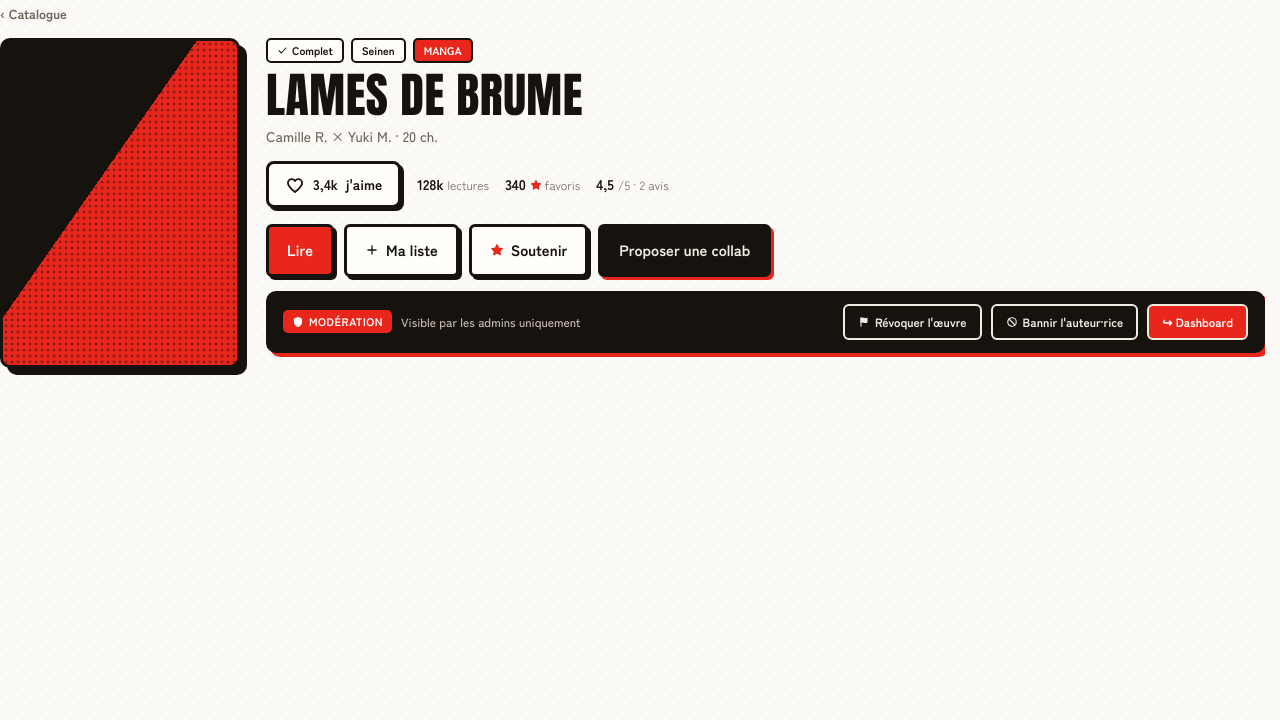
WorkHero (DR-3 FE-2) › MC-3: "Proposer une collab" opens the from-work modal scoped to the other creators
The image size is (1280, 720).
Click the button "Proposer une collab": {"x": 685, "y": 250} [598,224,771,277]
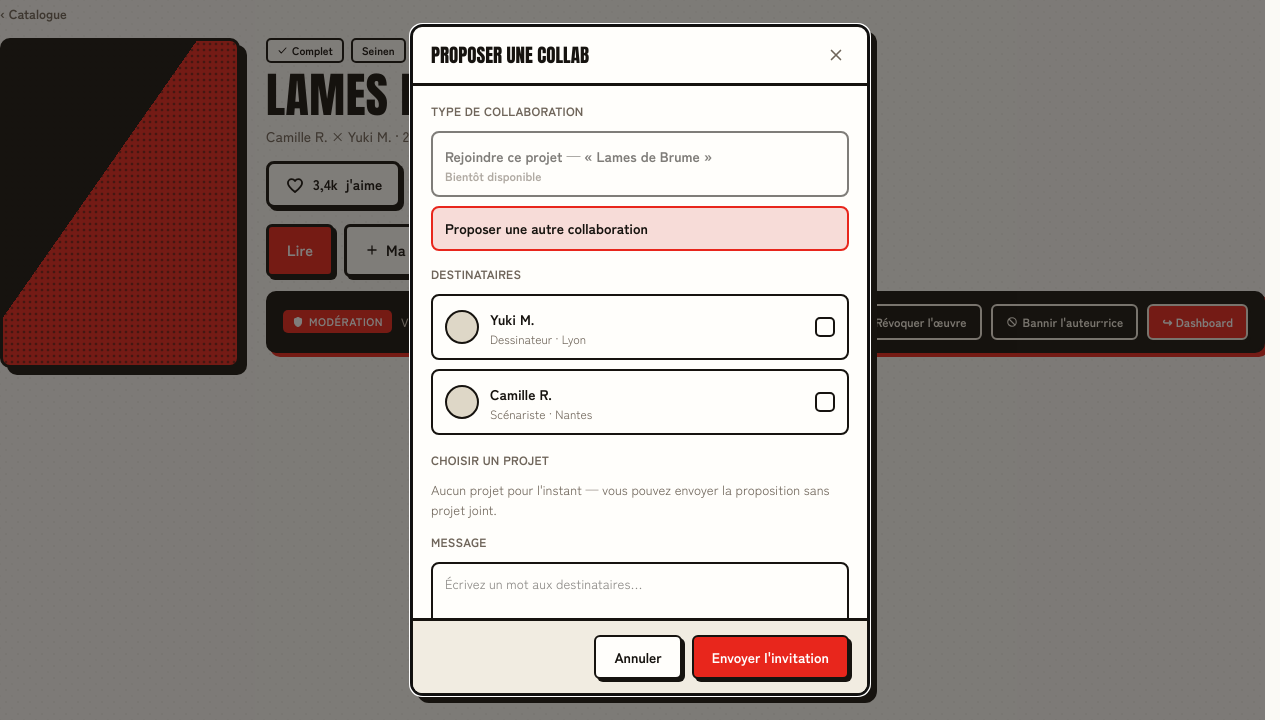
Check: the radio button labelled "Proposer une autre collaboration" is shown, box [431,206,849,251]
Check: the checkbox labelled "Yuki M. Dessinateur · Lyon" is shown, box [431,294,849,360]
Check: the checkbox labelled "Camille R. Scénariste · Nantes" is shown, box [431,369,849,435]
